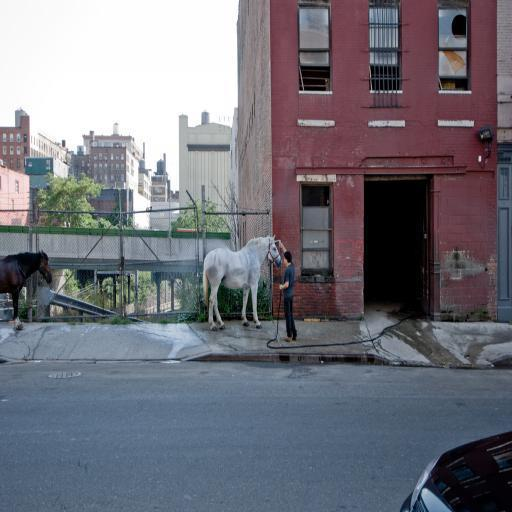horse: (201, 232, 283, 334), (0, 245, 54, 332)
